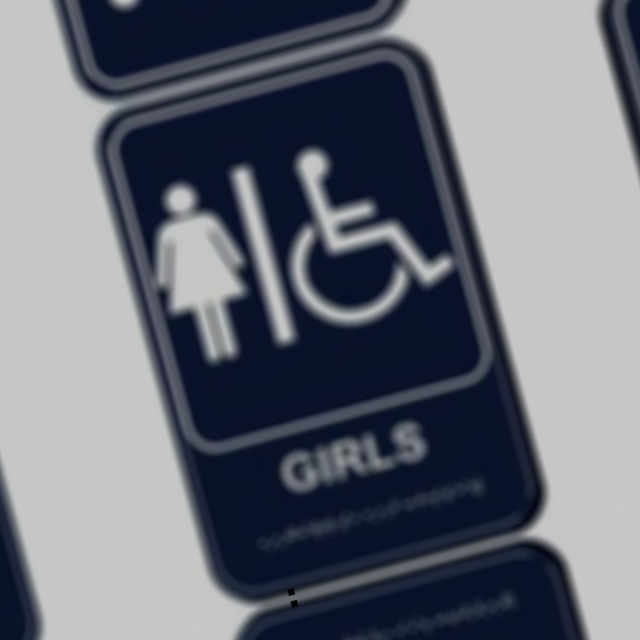ISA: (256, 116, 468, 344), (636, 13, 640, 241)
